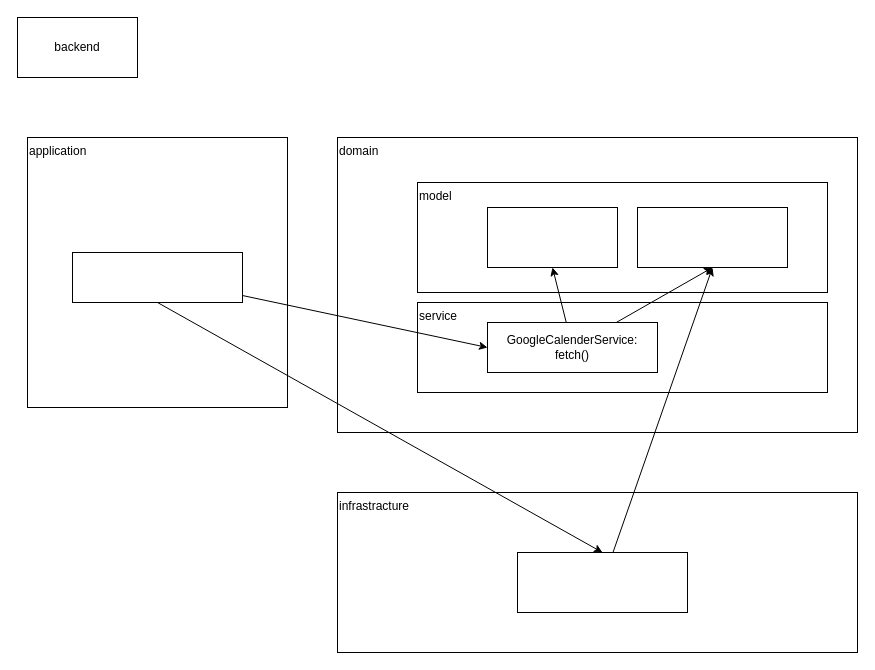
This 875x670 diagram has some shape labels left out. Each missing label, with the centre of its shape:
"CalenderApplication: create()" goes at (157,277).
"GoogleCalenderClient fetchEvents()" goes at (602,582).
"GoogleCalenderInterface: fetchEvents(): GoogleCalenderEventType" goes at (712,237).
"TimeCardModel: id(str) time(datetime) text(str)" goes at (552,237).
